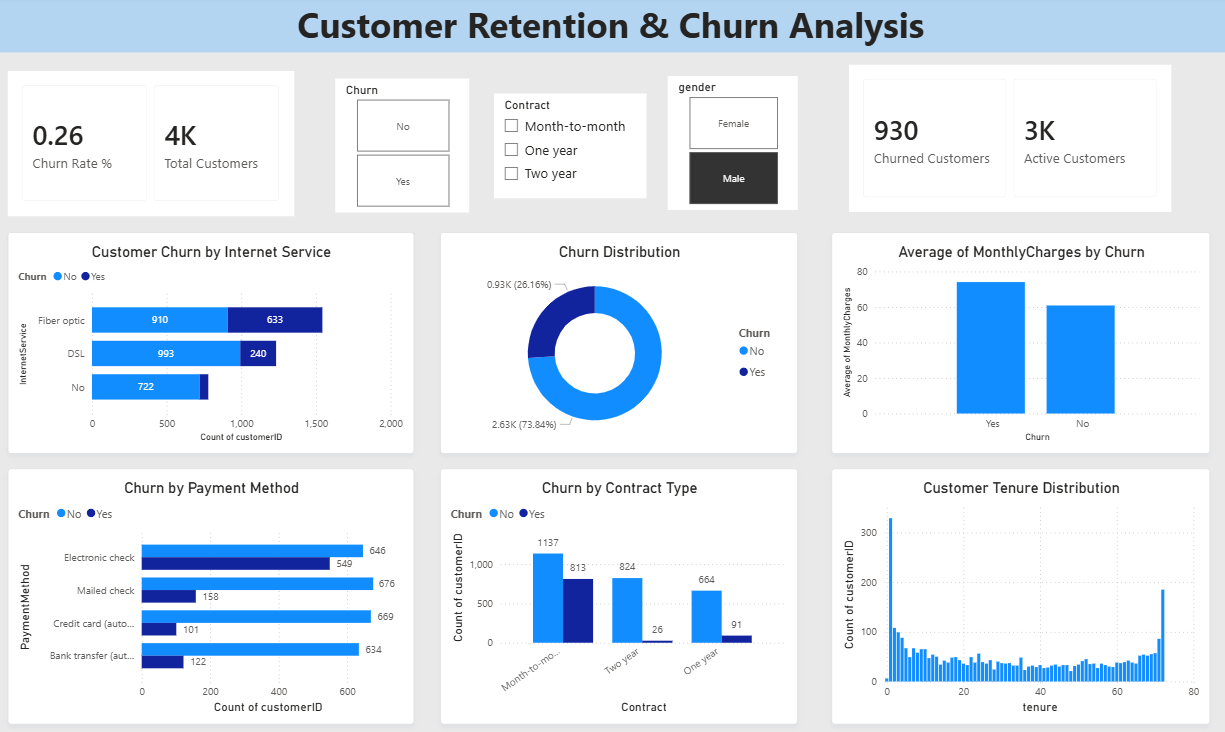

The dashboard page shown, as its layout file describes it:
{"tool":"powerbi","page":{"name":"Page 1","canvas":[1500,900],"ordinal":0},"visuals":[{"type":"cardVisual","fields":{"Data":["WA_Fn-UseC_-Telco-Customer-Churn.Churned Customers","WA_Fn-UseC_-Telco-Customer-Churn.Active Customers"]},"box":[1037.5,82.9,389.1,177.9],"z":0},{"type":"textbox","box":[0,0,1500.5,67.9],"z":1000},{"type":"slicer","fields":{"Values":["WA_Fn-UseC_-Telco-Customer-Churn.Churn"]},"box":[417.7,99.5,161.4,161.4],"z":2000},{"type":"donutChart","title":"Churn Distribution","fields":{"Y":["Count(WA_Fn-UseC_-Telco-Customer-Churn.customerID)"],"Category":["WA_Fn-UseC_-Telco-Customer-Churn.Churn"]},"box":[544.4,285,431.3,266.9],"z":3000},{"type":"clusteredColumnChart","title":"Churn by Contract Type","fields":{"Category":["WA_Fn-UseC_-Telco-Customer-Churn.Contract"],"Y":["Count(WA_Fn-UseC_-Telco-Customer-Churn.customerID)"],"Series":["WA_Fn-UseC_-Telco-Customer-Churn.Churn"]},"box":[544.4,570,431.3,309.2],"z":4000},{"type":"barChart","title":"Customer Churn by Internet Service","fields":{"Y":["CountNonNull(WA_Fn-UseC_-Telco-Customer-Churn.customerID)"],"Series":["WA_Fn-UseC_-Telco-Customer-Churn.Churn"],"Category":["WA_Fn-UseC_-Telco-Customer-Churn.InternetService"]},"box":[22.6,285,490.1,266.9],"z":5000},{"type":"clusteredBarChart","title":"Churn by Payment Method","fields":{"Category":["WA_Fn-UseC_-Telco-Customer-Churn.PaymentMethod"],"Series":["WA_Fn-UseC_-Telco-Customer-Churn.Churn"],"Y":["CountNonNull(WA_Fn-UseC_-Telco-Customer-Churn.customerID)"]},"box":[22.6,570,490.1,309.2],"z":6000},{"type":"columnChart","title":"Customer Tenure Distribution","fields":{"Category":["WA_Fn-UseC_-Telco-Customer-Churn.tenure"],"Y":["CountNonNull(WA_Fn-UseC_-Telco-Customer-Churn.customerID)"]},"box":[1016.4,570,456.9,309.2],"z":7000},{"type":"clusteredColumnChart","fields":{"Y":["Avg(WA_Fn-UseC_-Telco-Customer-Churn.MonthlyCharges)"],"Category":["WA_Fn-UseC_-Telco-Customer-Churn.Churn"]},"box":[1016.4,285,456.9,266.9],"z":7001},{"type":"slicer","fields":{"Values":["WA_Fn-UseC_-Telco-Customer-Churn.Contract"]},"box":[609.3,117.6,184,126.7],"z":7002},{"type":"slicer","fields":{"Values":["WA_Fn-UseC_-Telco-Customer-Churn.gender"]},"box":[818.9,96.5,156.8,161.4],"z":7003},{"type":"cardVisual","fields":{"Data":["WA_Fn-UseC_-Telco-Customer-Churn.Churn Rate","WA_Fn-UseC_-Telco-Customer-Churn.Total Customers"]},"box":[22.6,90.5,345.3,174.9],"z":7005}]}

Visuals, with their boxes in screenshot pixels (x1, y1, x2, y2), scaled from the page's 1500x900 canvas onto the 1225x732 screenshot:
cardVisual - WA_Fn-UseC_-Telco-Customer-Churn.Churned Customers x WA_Fn-UseC_-Telco-Customer-Churn.Active Customers: <bbox>847, 67, 1165, 212</bbox>
textbox: <bbox>0, 0, 1224, 55</bbox>
slicer - WA_Fn-UseC_-Telco-Customer-Churn.Churn: <bbox>341, 81, 473, 212</bbox>
"Churn Distribution" donutChart: <bbox>445, 232, 797, 449</bbox>
"Churn by Contract Type" clusteredColumnChart: <bbox>445, 464, 797, 715</bbox>
"Customer Churn by Internet Service" barChart: <bbox>18, 232, 419, 449</bbox>
"Churn by Payment Method" clusteredBarChart: <bbox>18, 464, 419, 715</bbox>
"Customer Tenure Distribution" columnChart: <bbox>830, 464, 1203, 715</bbox>
clusteredColumnChart - Avg(WA_Fn-UseC_-Telco-Customer-Churn.MonthlyCharges) x WA_Fn-UseC_-Telco-Customer-Churn.Churn: <bbox>830, 232, 1203, 449</bbox>
slicer - WA_Fn-UseC_-Telco-Customer-Churn.Contract: <bbox>498, 96, 648, 199</bbox>
slicer - WA_Fn-UseC_-Telco-Customer-Churn.gender: <bbox>669, 78, 797, 210</bbox>
cardVisual - WA_Fn-UseC_-Telco-Customer-Churn.Churn Rate x WA_Fn-UseC_-Telco-Customer-Churn.Total Customers: <bbox>18, 74, 300, 216</bbox>
